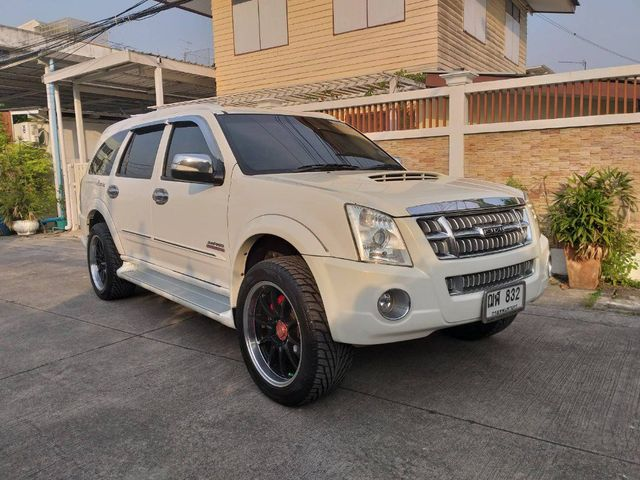pickup: (76, 102, 551, 407)
